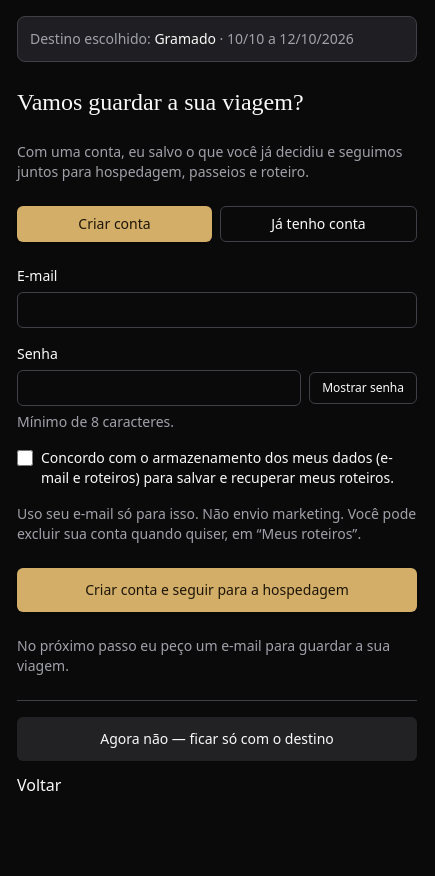
Test: CadastroClient (T-GATE, V2-L7-T04, RF-16) › e-mail já cadastrado mostra o convite para entrar, sem tentar signIn/vincular automaticamente
Step 1. Type "viajante@example.com" into the field labelled "E-mail" → (217, 310), box [17, 292, 417, 328]
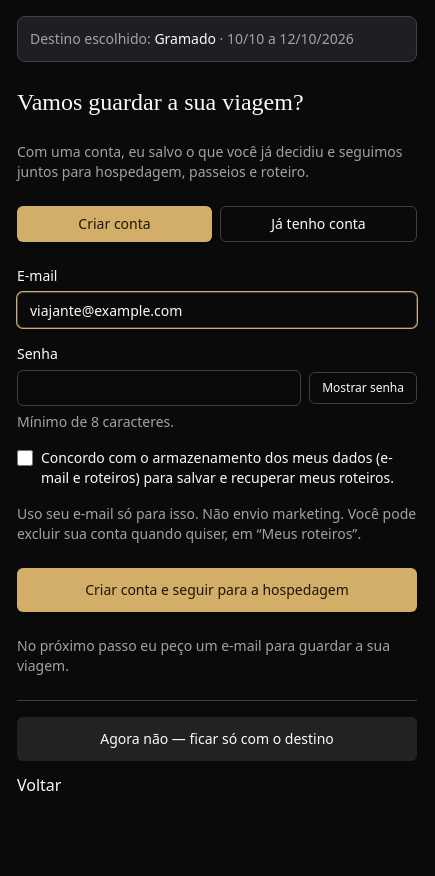
Step 2. Type "senha-segura-123" into the password field labelled "Senha" → (159, 388), box [17, 370, 301, 406]
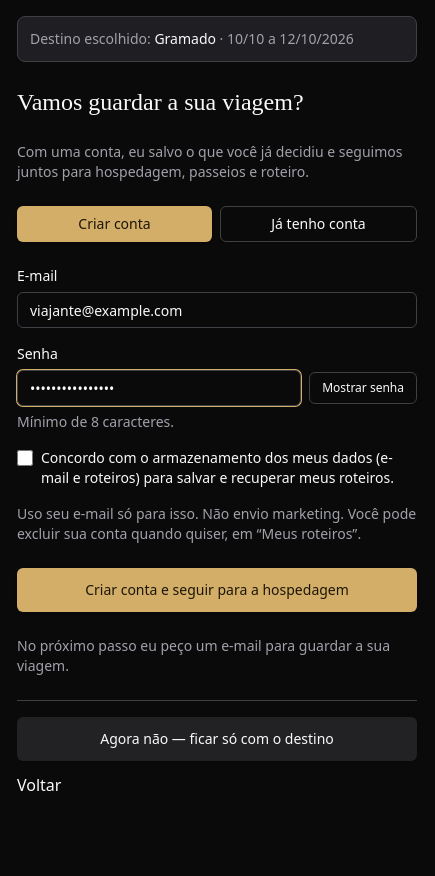
Step 3. Click the checkbox → click(25, 458), box [17, 450, 33, 466]
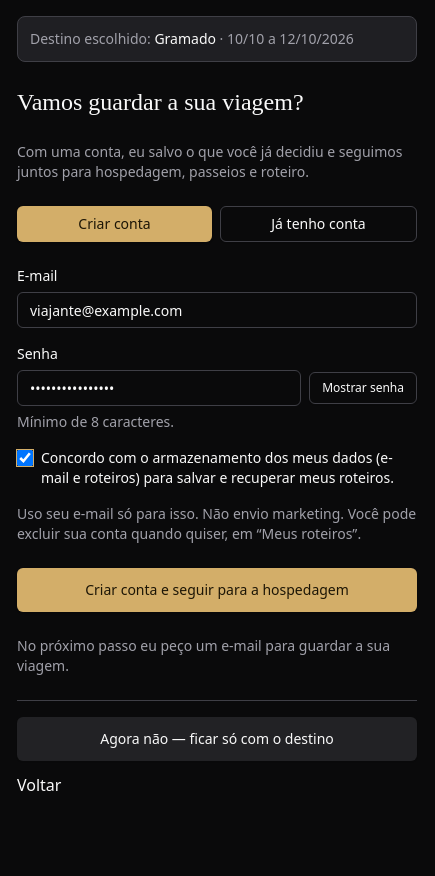
Step 4. Click the button "Criar conta e seguir para a hospedagem" → click(217, 590), box [17, 568, 417, 612]
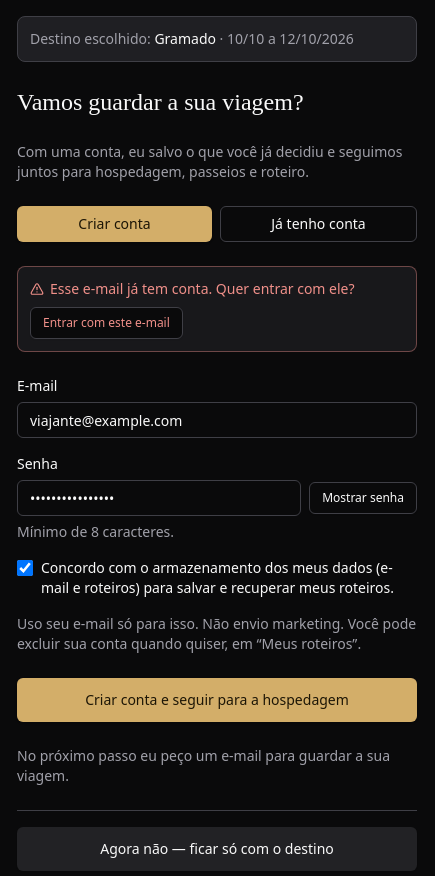
Expected: the text "Esse e-mail já tem conta. Quer entrar com ele?" is shown, [30, 279, 404, 299]
Step 5. Click the button "Entrar com este e-mail" → click(106, 323), box [30, 307, 183, 339]
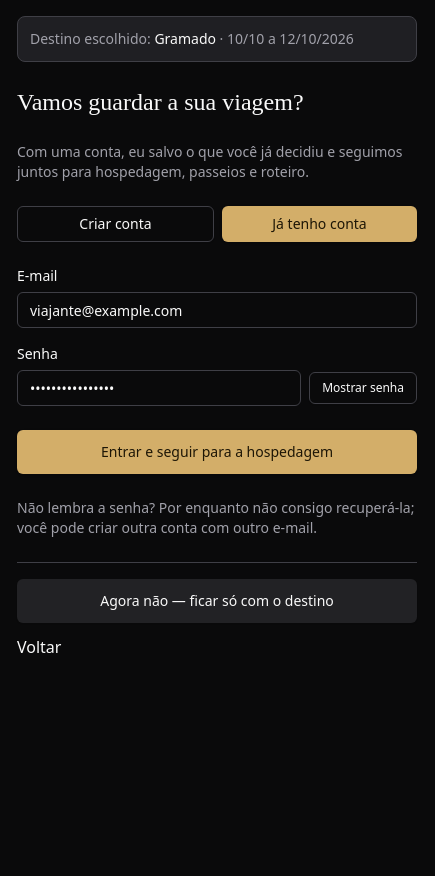
Expected: the button "Entrar e seguir para a hospedagem" is shown, [17, 430, 417, 474]
